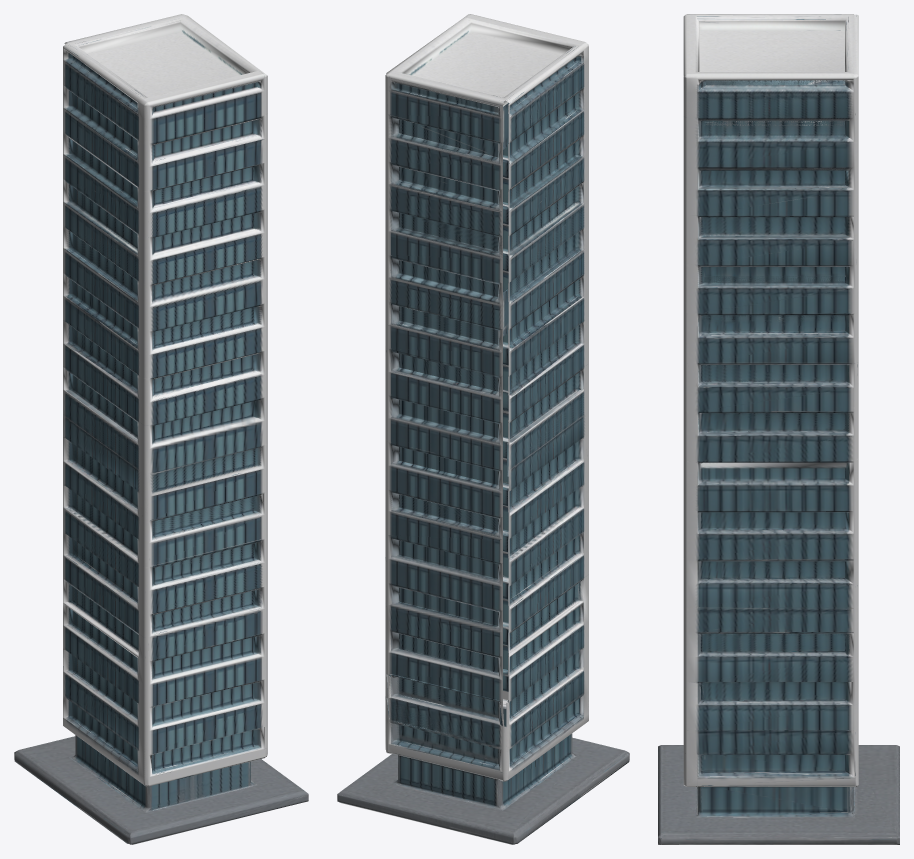
File: hq_silver.glb
3 views of the same model, side by side, from view 1: azimuth 30°, elevation 25°; view 2: azimuth 150°, elevation 25°; view 3: azimuth 270°, elevation 25° (orthographic). The views are drawn at different scales.
Size of the model in its own units: 0.4971 by 1.91 by 0.5519.
1 material, 1 textured.
